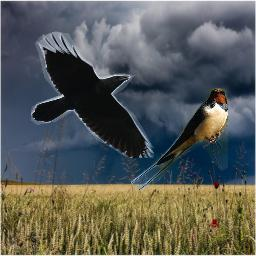Crow: (31, 31, 154, 158)
Swallow: (131, 88, 228, 190)
